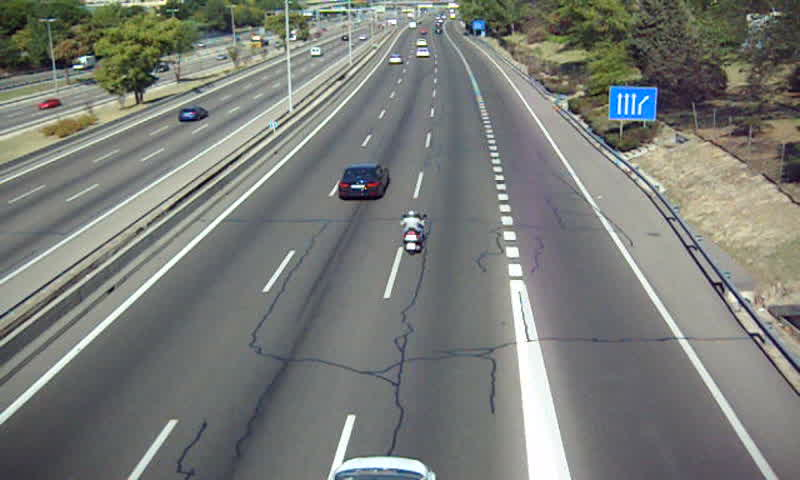car: (337, 163, 391, 200)
motorcycle: (399, 210, 427, 256)
